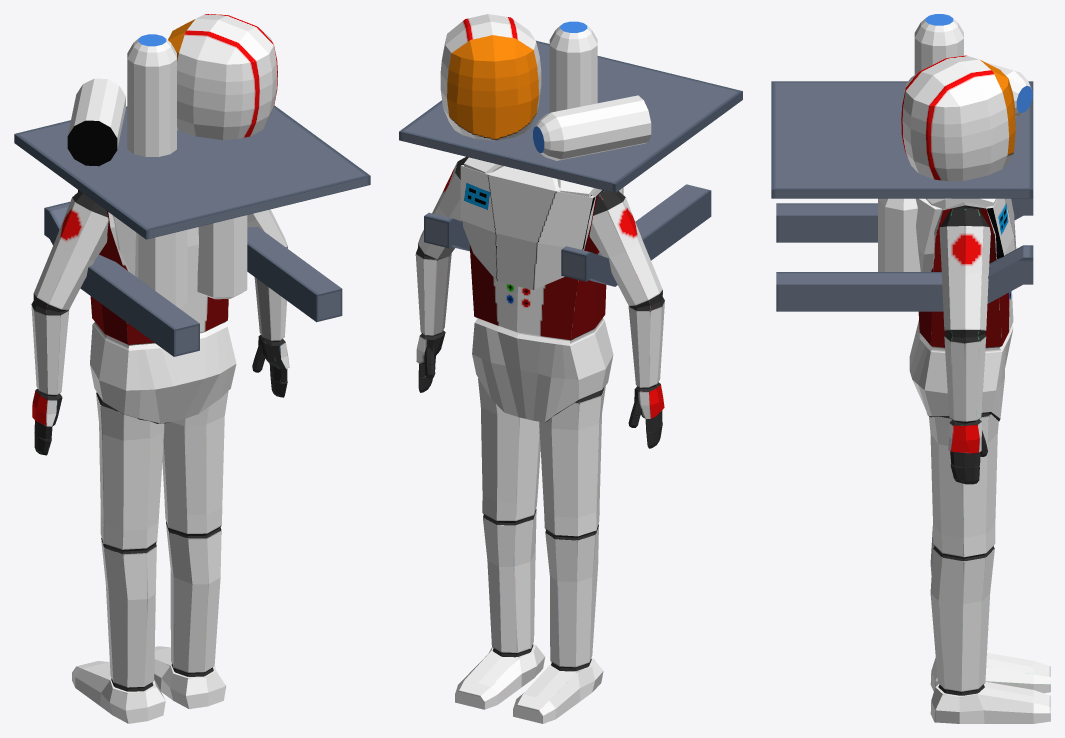
Rendered from WallSpaceSuitLocker.obj.
3 views of the same model, side by side, from view 1: azimuth 30°, elevation 25°; view 2: azimuth 150°, elevation 25°; view 3: azimuth 270°, elevation 25° (orthographic). The views are drawn at different scales.
Parts seen in each view (by area): view 1: cuboid, cylinder, Head, Pelvis, Left Upper Leg, Right Upper Leg, Right Lower Leg, Left Lower Leg, Left Upper Arm, Left Foot, Torso, Left Lower Arm (+6 smaller); view 2: cylinder, cuboid, Head, Pelvis, Left Upper Leg, Torso, Right Upper Leg, Right Lower Leg, Left Lower Leg, Left Upper Arm, Right Foot, Left Foot (+6 smaller); view 3: cuboid, Head, cylinder, Right Lower Leg, Right Upper Leg, Right Upper Arm, Right Foot, Pelvis, Torso, Right Lower Arm, sphere, Left Foot (+2 smaller).
Part boxes in pixels (box(x1,y1,x2,y2)): cuboid: box(14, 105, 370, 356); cylinder: box(67, 34, 247, 308); Head: box(168, 14, 277, 139); Pelvis: box(90, 322, 236, 423); Left Upper Leg: box(96, 393, 164, 549); Right Upper Leg: box(162, 391, 228, 533); Right Lower Leg: box(166, 523, 221, 672); Left Lower Leg: box(101, 538, 156, 687); Left Upper Arm: box(33, 197, 108, 310); Left Foot: box(72, 661, 165, 723); Torso: box(90, 211, 228, 345); Left Lower Arm: box(31, 304, 68, 394); cylinder: box(460, 21, 651, 289); cuboid: box(399, 40, 742, 286); Head: box(440, 14, 541, 140); Pelvis: box(472, 318, 613, 422); Left Upper Leg: box(539, 385, 605, 536); Torso: box(469, 165, 606, 340); Right Upper Leg: box(478, 378, 540, 520); Right Lower Leg: box(483, 510, 536, 652); Left Lower Leg: box(545, 526, 598, 667); Left Upper Arm: box(589, 197, 662, 306); Right Foot: box(455, 643, 544, 709); Left Foot: box(513, 657, 603, 723); cuboid: box(771, 81, 1033, 311); Head: box(901, 55, 1015, 181); cylinder: box(878, 14, 1032, 271); Right Lower Leg: box(930, 548, 994, 691); Right Upper Leg: box(929, 414, 998, 557); Right Upper Arm: box(939, 226, 990, 330); Right Foot: box(930, 681, 1050, 723); Pelvis: box(909, 320, 1013, 421); Torso: box(918, 202, 1013, 348); Right Lower Arm: box(944, 336, 986, 421); sphere: box(933, 207, 994, 695); Left Foot: box(930, 653, 1050, 693).
Size of the model in its own units: 0.3664 by 0.9344 by 0.3531.
Materials: 7 (7 with a texture image).
